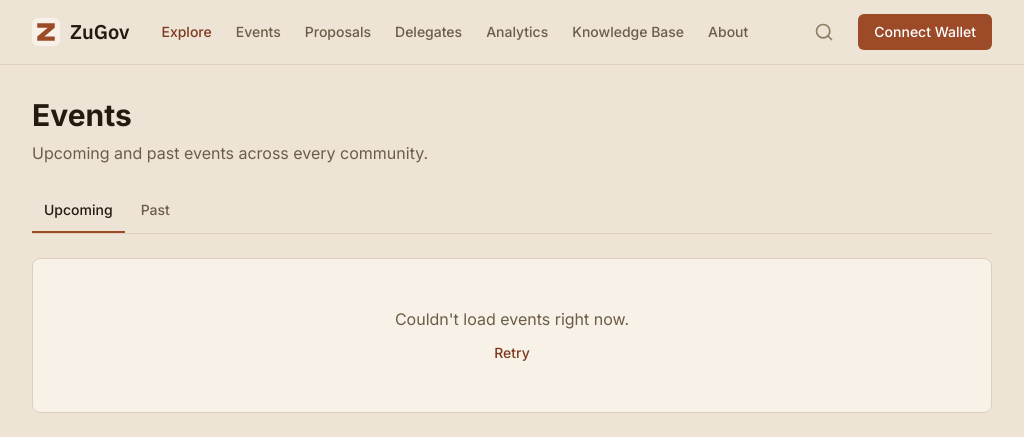
Test case: EventsPage › shows a distinct error state (not the empty state) on fetch failure, with a working Retry
Expected: the text "Couldn't load events right now." is shown, [395,309,629,329]
Click the button "Retry" at (512, 353), box [494,343,530,363]
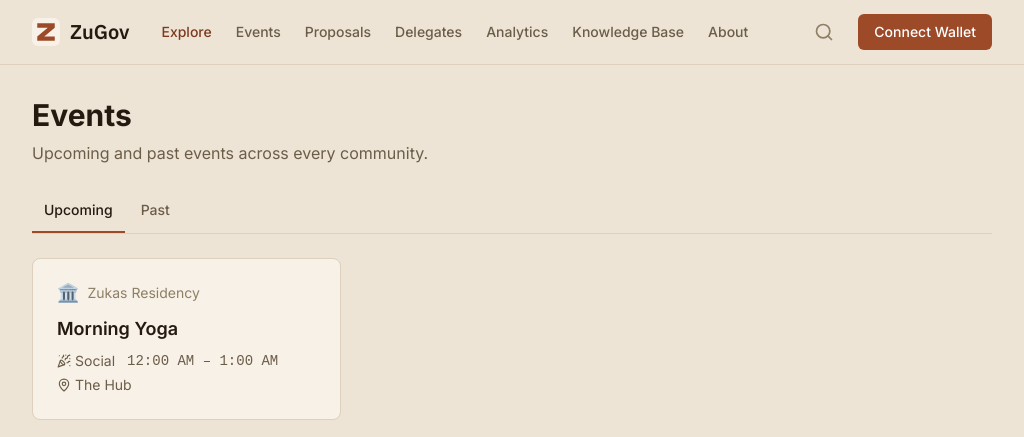
Result: the heading "Morning Yoga" is shown at [57,318,178,339]
